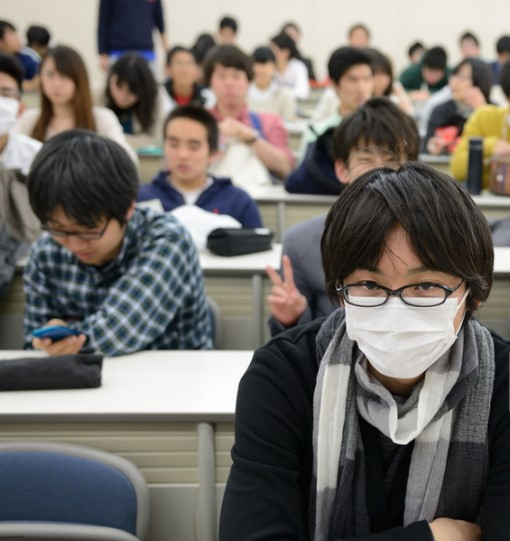face_no_mask: (334, 103, 417, 184), (164, 107, 216, 186), (206, 44, 250, 108), (328, 47, 374, 108), (35, 46, 82, 105), (446, 57, 491, 100)
face_with_mask: (333, 173, 482, 383)
